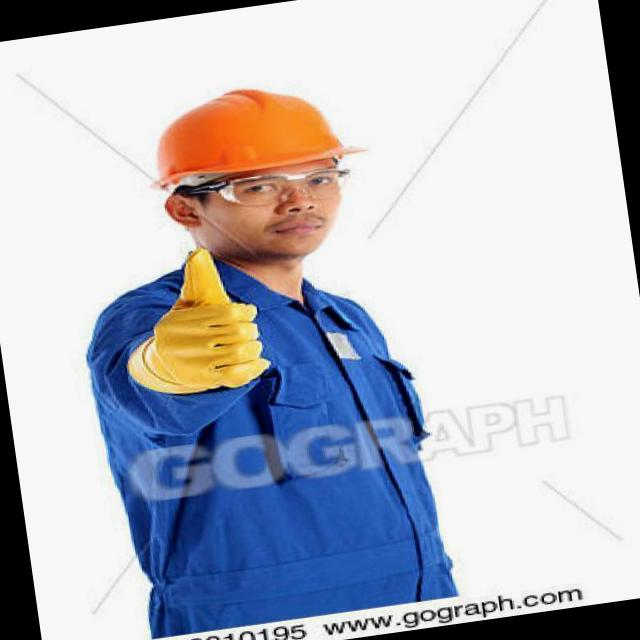gloves: (117, 238, 276, 407)
no-vest: (109, 241, 448, 634)
